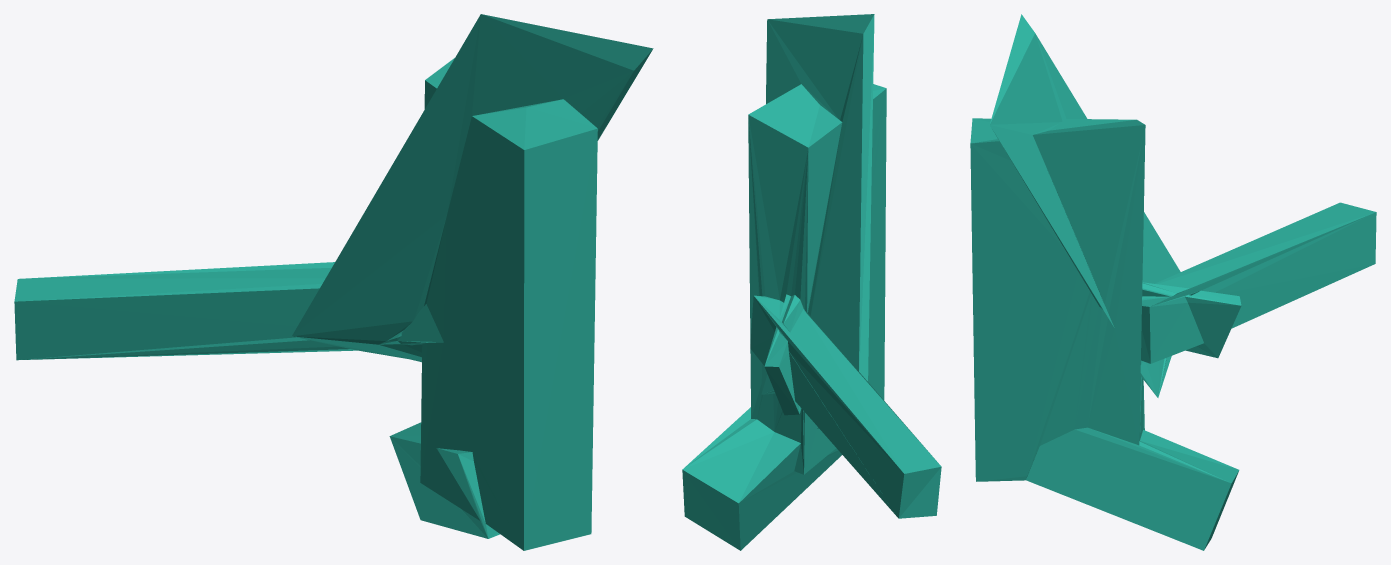
The picture shows the model from 3 angles, left to right: view 1: azimuth 30°, elevation 25°; view 2: azimuth 150°, elevation 25°; view 3: azimuth 270°, elevation 25°; orthographic projection. The views are drawn at different scales.
Parts seen in each view (by area): view 1: 828_Cube.3337; view 2: 828_Cube.3337; view 3: 828_Cube.3337.
Boxes of the visible parts, x1,y1,x2,y2 form: 828_Cube.3337: [14, 14, 653, 550]; 828_Cube.3337: [682, 14, 941, 550]; 828_Cube.3337: [970, 14, 1376, 550].
Bounding box in the file's own units: 12.86 × 17.28 × 12.65.
